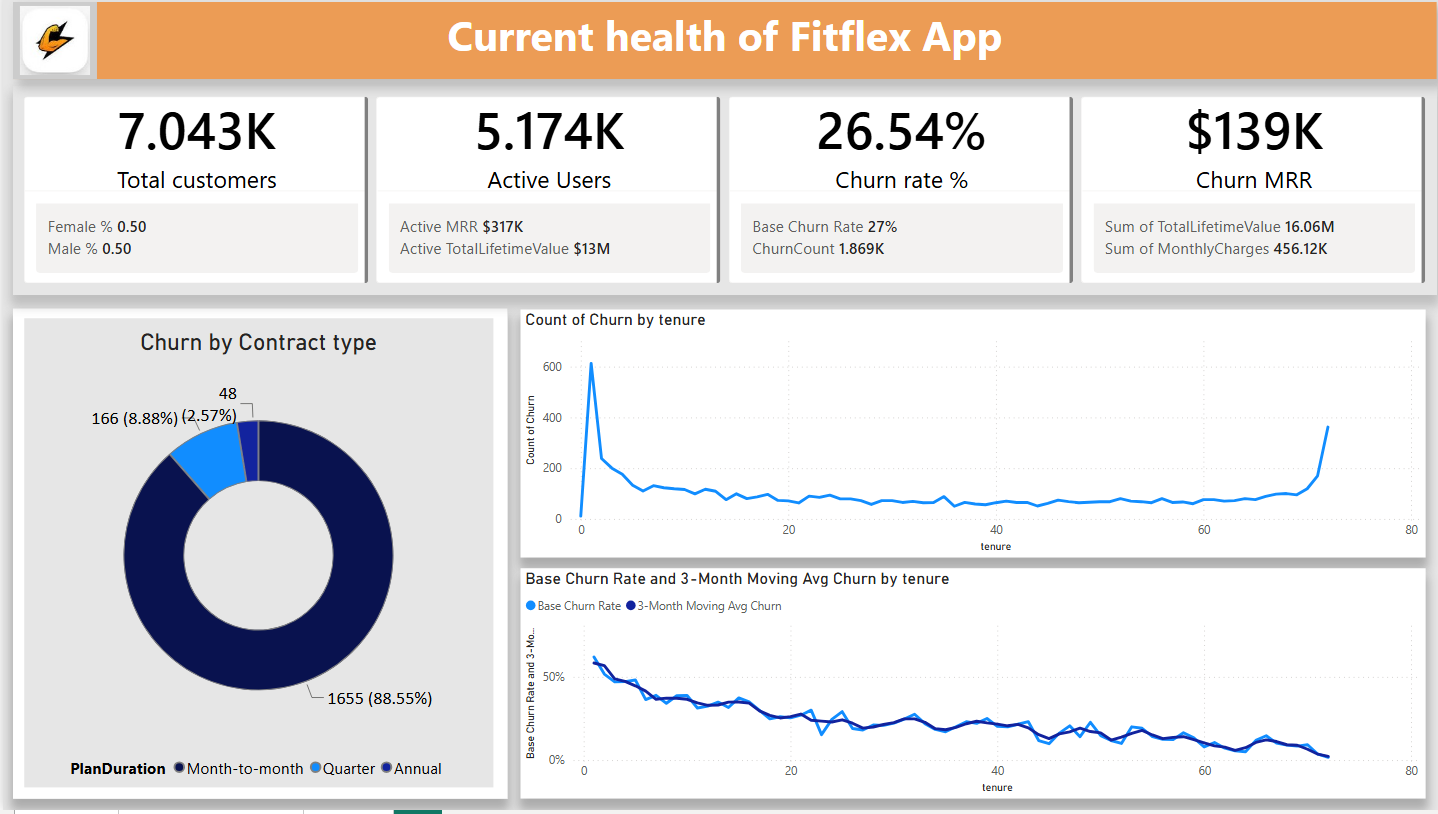

The page's visual inventory and layout, read from the dashboard file:
{"tool":"powerbi","page":{"name":"Insights","canvas":[1500,850],"ordinal":0},"visuals":[{"type":"shape","box":[9.8,327.9,513.6,509.4],"z":0},{"type":"textbox","box":[9.8,9.8,1478.5,80.1],"z":1000},{"type":"image","box":[9.8,9.8,87.1,80.1],"z":2000},{"type":"cardVisual","fields":{"Data":["Churn Dashboard v1.Total customers","Churn Dashboard v1.Active users","Churn Dashboard v1.Churn rate %","Churn Dashboard v1.Churn MRR"]},"box":[9.8,97.1,1478.9,216.7],"z":3000},{"type":"donutChart","title":"Churn by Contract type","fields":{"Category":["Churn Dashboard v1.PlanDuration"],"Y":["CountNonNull(Churn Dashboard v1.customerID)"]},"box":[22.5,339.1,486.9,486.9],"z":4000},{"type":"lineChart","fields":{"Category":["Churn Dashboard v1.tenure"],"Y":["CountNonNull(Churn Dashboard v1.Churn)"]},"box":[537.5,329.3,940,257.5],"z":5000},{"type":"lineChart","fields":{"Category":["Churn Dashboard v1.tenure"],"Y":["Churn Dashboard v1.Base Churn Rate","Churn Dashboard v1.3-Month Moving Avg Churn"]},"box":[537.5,598,940,239.2],"z":6000}]}

Visuals, with their boxes in screenshot pixels (x1, y1, x2, y2), scaled from the page's 1500x850 canvas onto the 1438x814 screenshot:
shape: <box>9,314,502,802</box>
textbox: <box>9,9,1427,86</box>
image: <box>9,9,93,86</box>
cardVisual - Churn Dashboard v1.Total customers x Churn Dashboard v1.Active users: <box>9,93,1427,301</box>
"Churn by Contract type" donutChart: <box>22,325,488,791</box>
lineChart - Churn Dashboard v1.tenure x CountNonNull(Churn Dashboard v1.Churn): <box>515,315,1416,562</box>
lineChart - Churn Dashboard v1.tenure x Churn Dashboard v1.Base Churn Rate: <box>515,573,1416,802</box>
